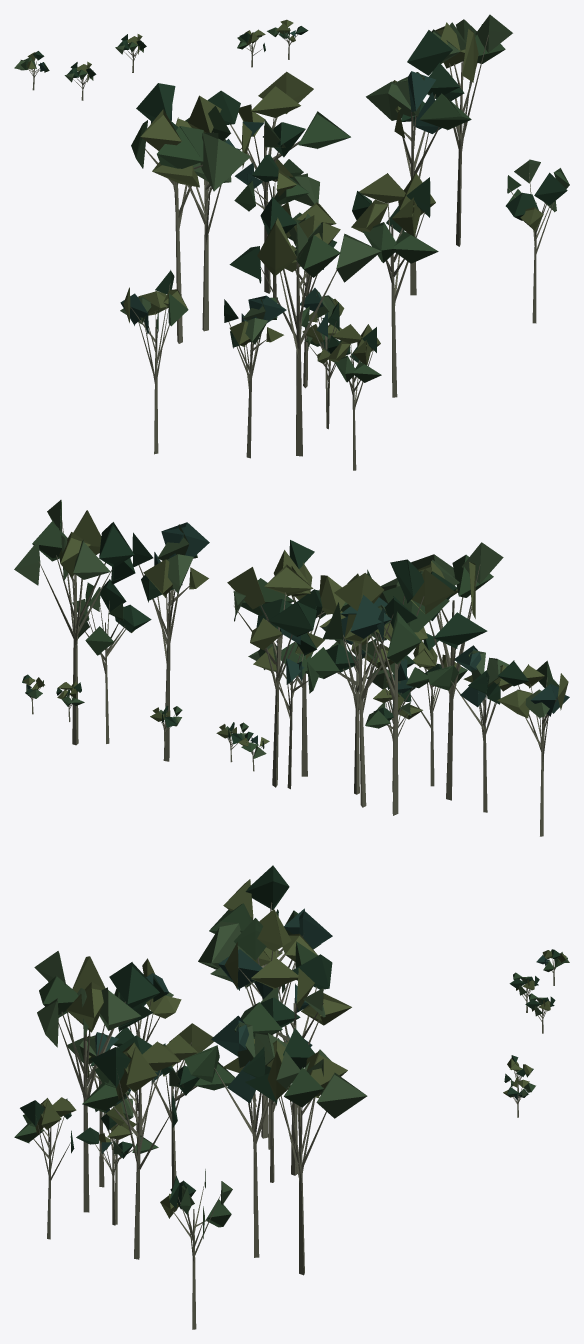
The model's file is forest_21_21.dae.
The picture shows the model from 3 angles, top to bottom: view 1: azimuth 30°, elevation 25°; view 2: azimuth 150°, elevation 25°; view 3: azimuth 270°, elevation 25°; orthographic projection.
Visible parts, largest first — view 1: Node; view 2: Node; view 3: Node.
Boxes of the visible parts, x1,y1,x2,y2 form: Node: (14,14,569,470); Node: (14,500,569,836); Node: (14,865,569,1329).
Size of the model in its own units: 10.06 by 10.38 by 6.82.
